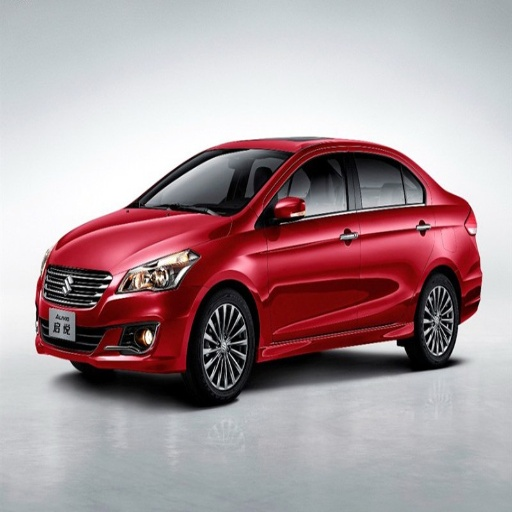back_left_door: (351, 148, 433, 326)
front_bumper: (34, 254, 204, 370)
front_glass: (130, 149, 287, 215)
front_left_door: (260, 149, 358, 342)
